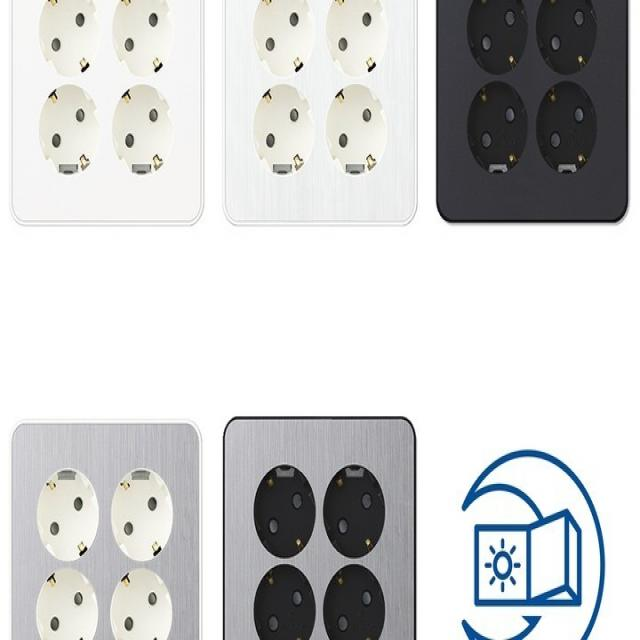typeb: (393, 0, 632, 247), (217, 0, 430, 274), (0, 0, 217, 248), (220, 401, 435, 640), (13, 409, 210, 640)
